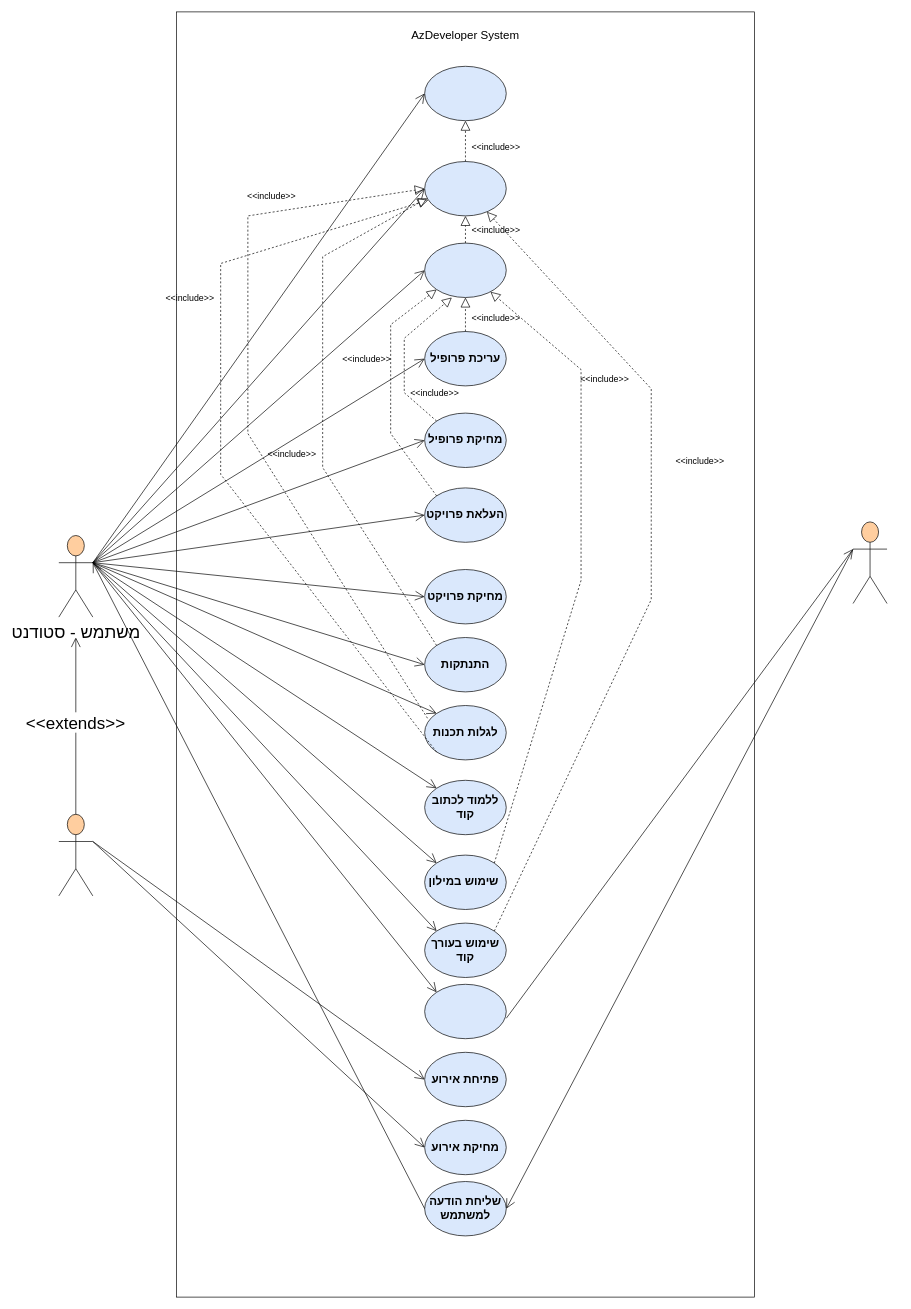
Some shapes in this 911 by 1309 pixel diagram are drawn without their labels. Each missing label, with the centre of its shape:
הרשמה: [465,93]
התחברות: [465,188]
מנהל האתר: [869,562]
משתמש - מרצה: [75,855]
פתיחת פרופיל: [465,270]
שליחת הודעה למנהל האתר: [465,1011]
